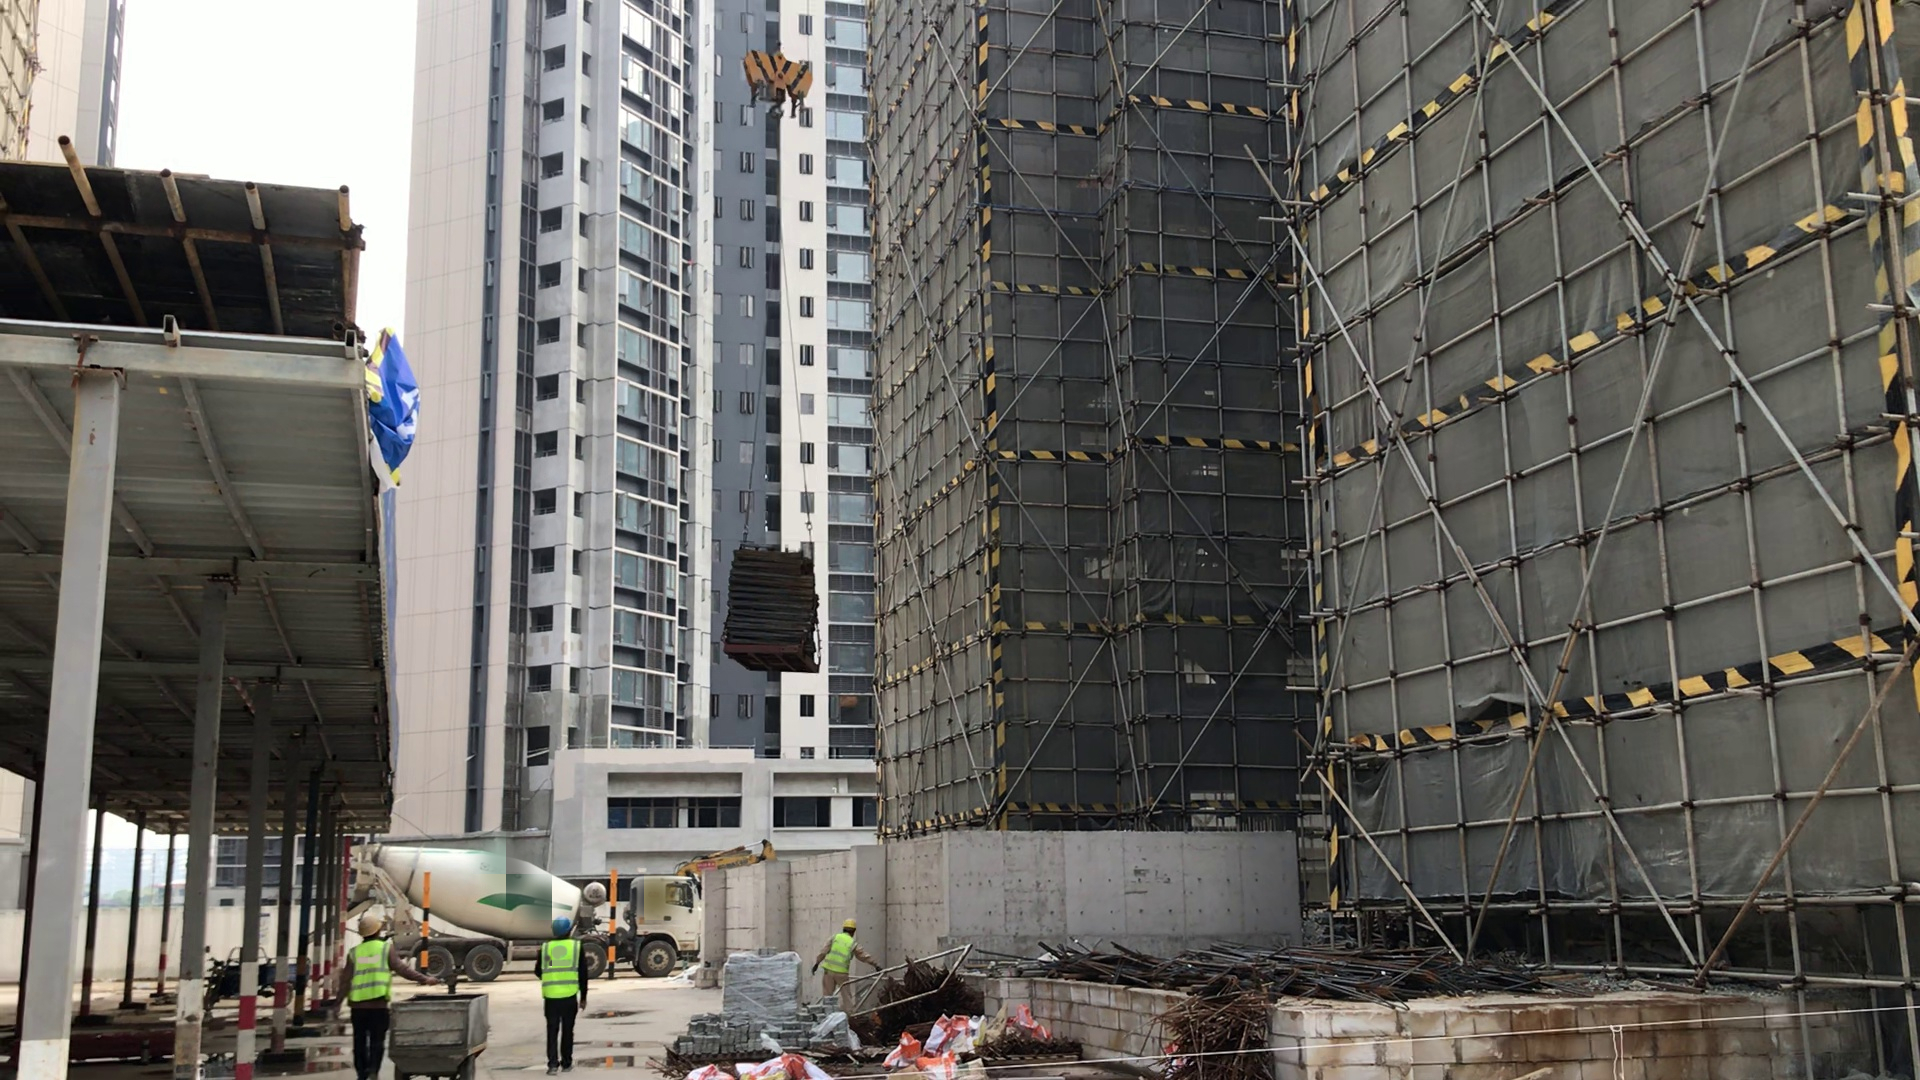helmet: (354, 914, 386, 941), (548, 916, 572, 938), (841, 912, 861, 938)
person: (339, 906, 402, 1080), (539, 913, 590, 1080), (809, 913, 885, 999)
vest: (348, 942, 400, 1006), (541, 938, 582, 1003), (824, 931, 856, 976)
